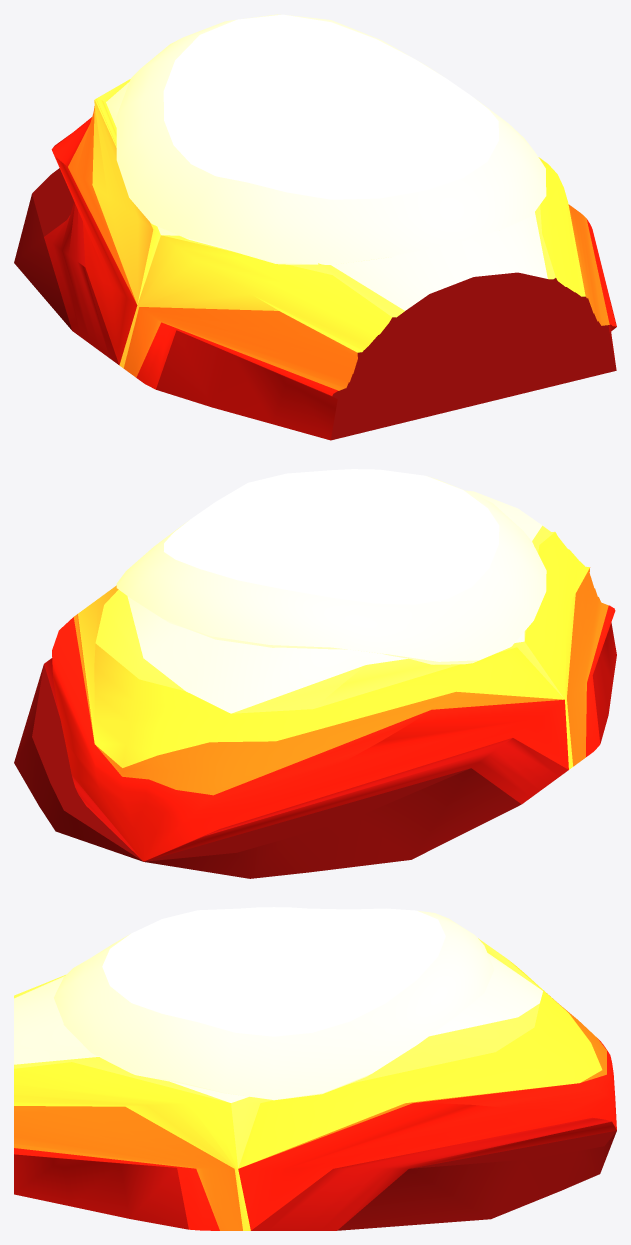
Rendered from shot_charge_b100.glb.
3 views of the same model, one above another, from view 1: azimuth 30°, elevation 25°; view 2: azimuth 150°, elevation 25°; view 3: azimuth 270°, elevation 25° (orthographic). The views are drawn at different scales.
Visible parts, largest first — view 1: charge_bigdrop_fire_shot_charge_b100, charge_bigdrop_core_shot_charge_b100; view 2: charge_bigdrop_fire_shot_charge_b100, charge_bigdrop_core_shot_charge_b100; view 3: charge_bigdrop_fire_shot_charge_b100, charge_bigdrop_core_shot_charge_b100.
Boxes of the visible parts, box(x1,y1,x2,y2) form: charge_bigdrop_fire_shot_charge_b100: box(14, 79, 616, 440); charge_bigdrop_core_shot_charge_b100: box(116, 14, 546, 265); charge_bigdrop_fire_shot_charge_b100: box(14, 490, 616, 878); charge_bigdrop_core_shot_charge_b100: box(116, 469, 546, 664); charge_bigdrop_fire_shot_charge_b100: box(14, 938, 616, 1230); charge_bigdrop_core_shot_charge_b100: box(54, 907, 494, 1100).
Bounding box in the file's own units: 11 × 5.23 × 14.
